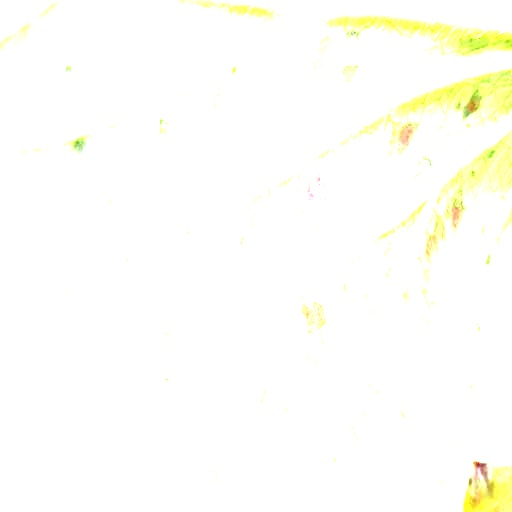Angular Leafspot: (0, 11, 511, 511)
